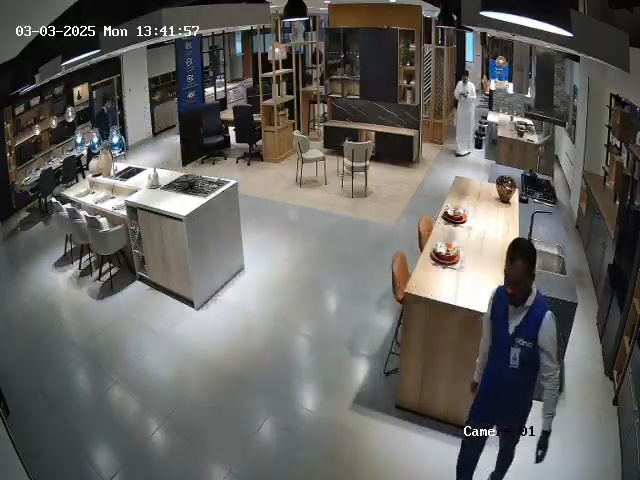employee: (455, 237, 561, 480)
male: (453, 70, 477, 157)
